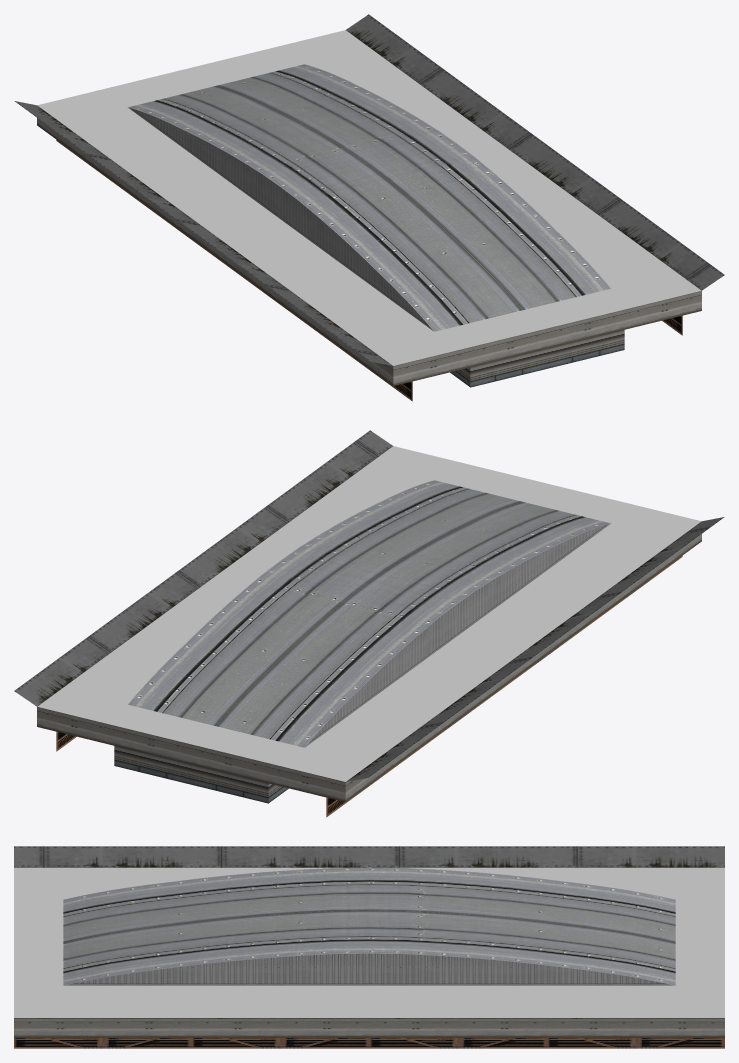
Rendered from Ramps02.fbx.
The picture shows the model from 3 angles, top to bottom: view 1: azimuth 30°, elevation 25°; view 2: azimuth 150°, elevation 25°; view 3: azimuth 270°, elevation 25°; orthographic projection.
Parts seen in each view (by area): view 1: Empty_Mesh; view 2: Empty_Mesh; view 3: Empty_Mesh.
Boxes of the visible parts, x1,y1,x2,y2 form: Empty_Mesh: [14, 14, 724, 401]; Empty_Mesh: [14, 430, 724, 817]; Empty_Mesh: [14, 846, 724, 1048].
Bounding box in the file's own units: 18.4 × 3.6 × 32.
